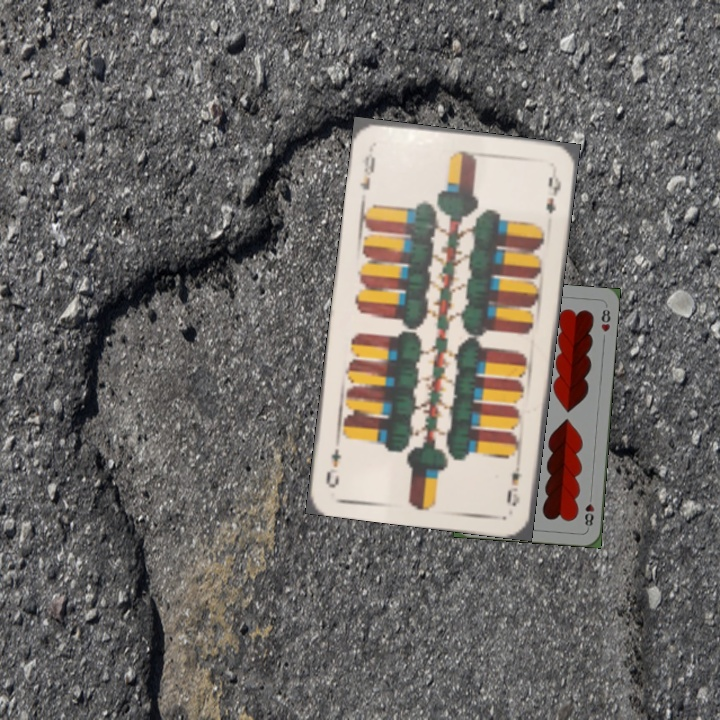E9: (503, 453, 523, 509), (355, 148, 378, 193)
H8: (581, 490, 597, 531)
